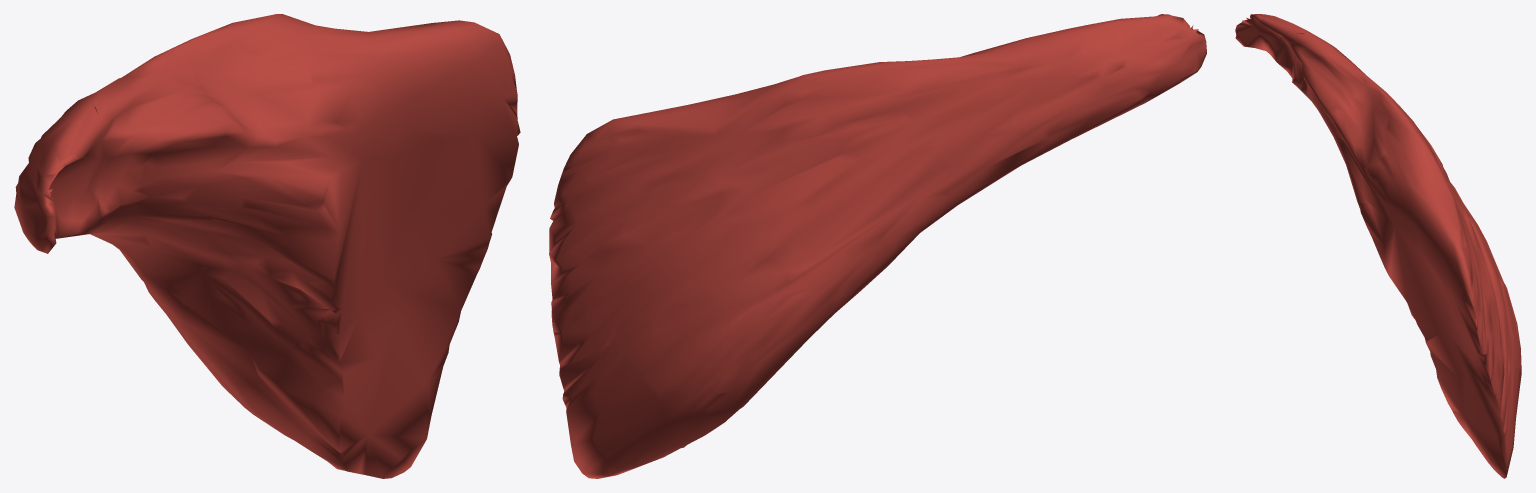
Rendered from musculos-infraspinatus-muscle-r.glb.
3 renders of one model, left to right at view 1: azimuth 30°, elevation 25°; view 2: azimuth 150°, elevation 25°; view 3: azimuth 270°, elevation 25°, orthographic. The views are drawn at different scales.
Parts seen in each view (by area): view 1: Infraspinatus muscle.r; view 2: Infraspinatus muscle.r; view 3: Infraspinatus muscle.r.
Boxes of the visible parts, <box> form: Infraspinatus muscle.r: <box>14,14,520,478</box>; Infraspinatus muscle.r: <box>549,14,1206,478</box>; Infraspinatus muscle.r: <box>1235,14,1521,478</box>.
Bounding box in the file's own units: 0.1326 × 0.1136 × 0.0918.
